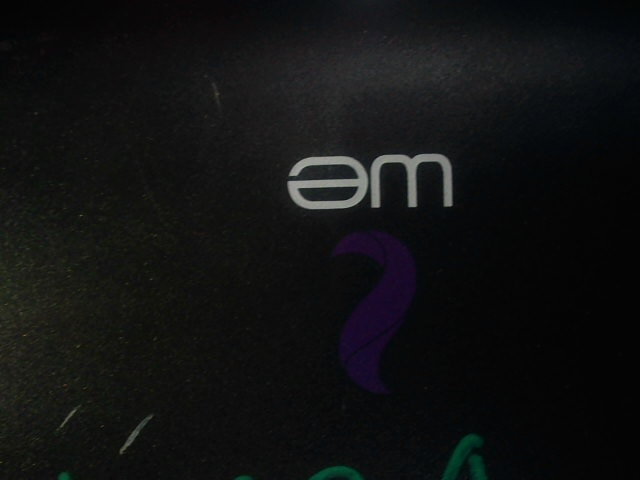AT_We: (273, 151, 456, 394)
